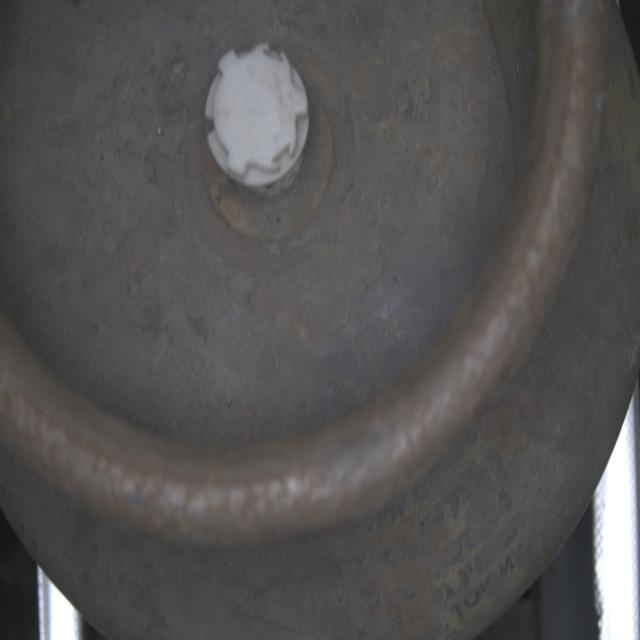Cap: (204, 47, 312, 191)
